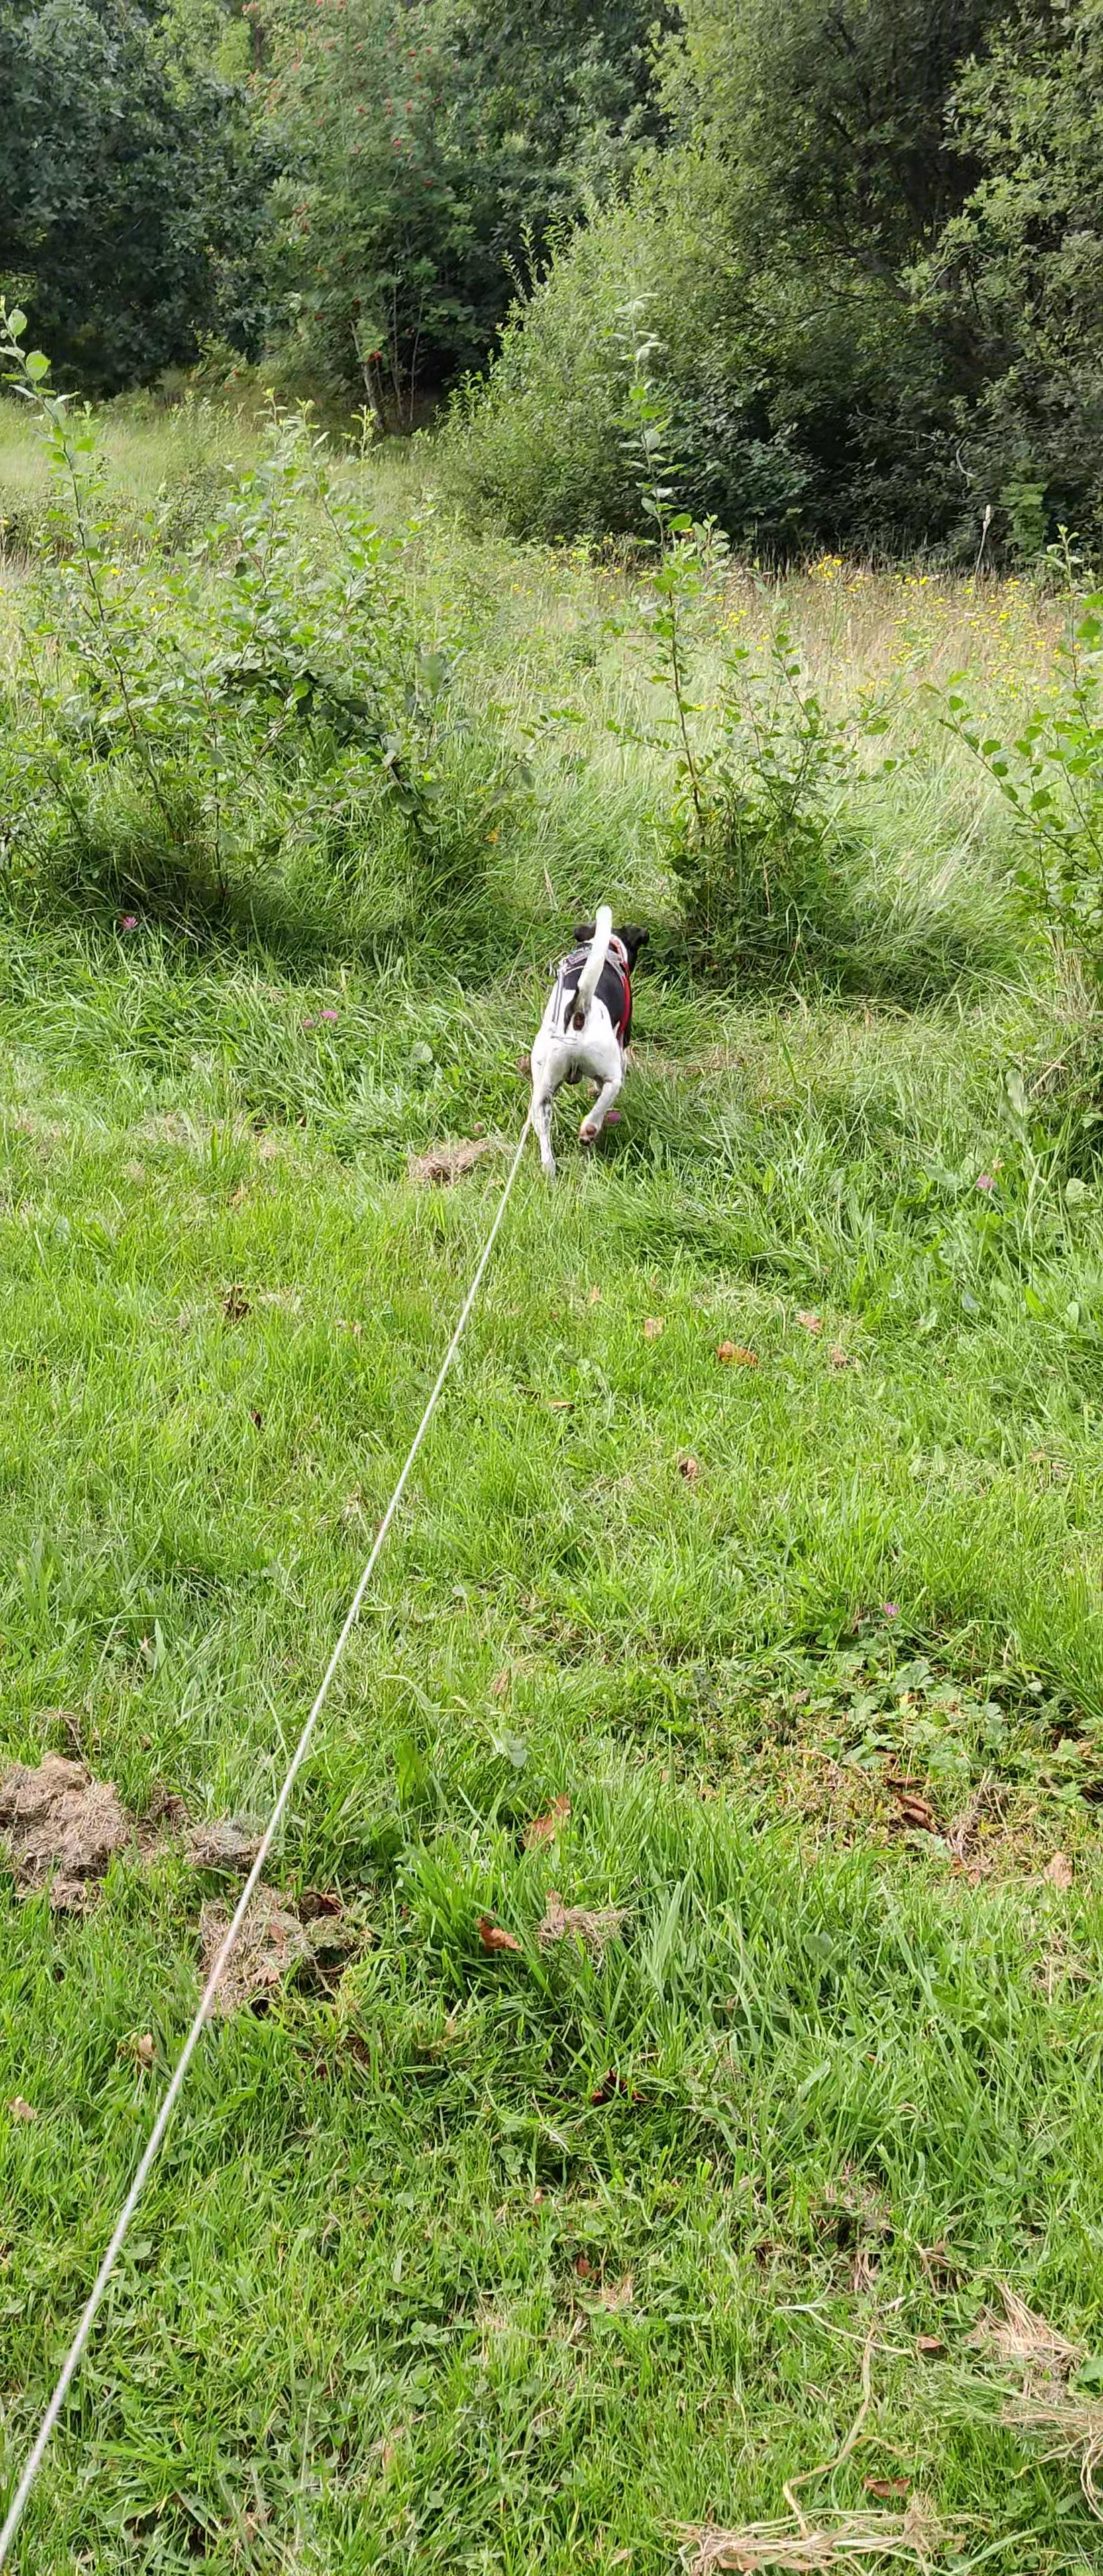Dog: (508, 897, 661, 1194)
